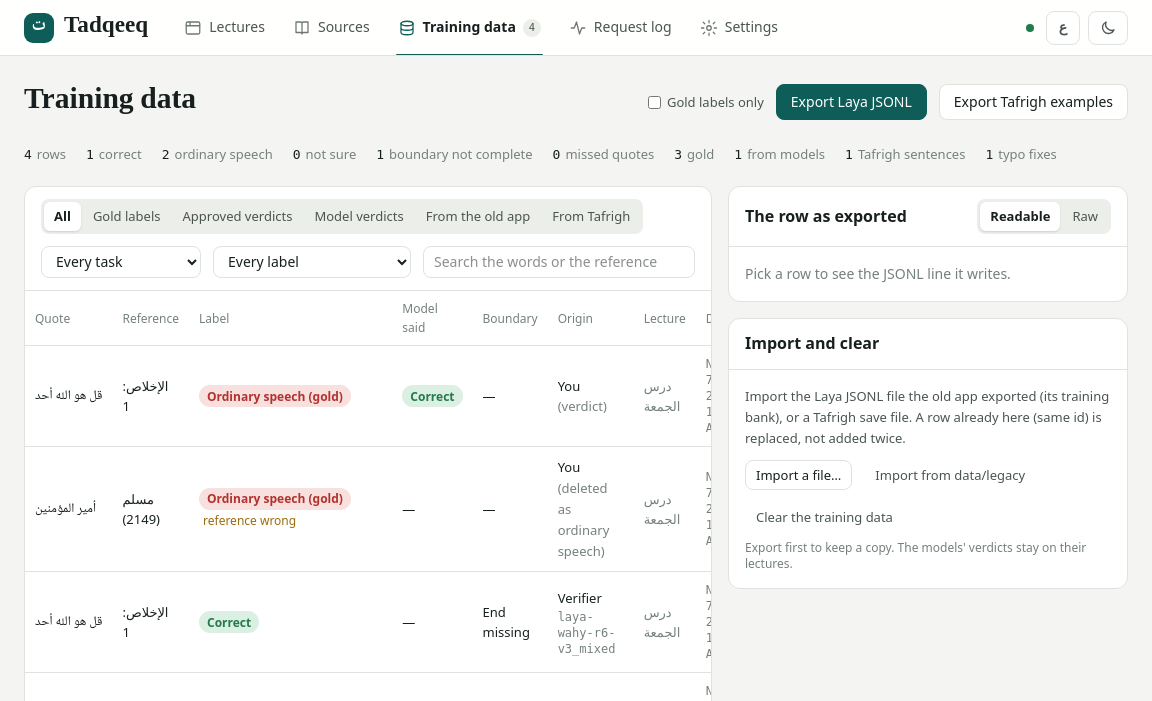
it: clearing asks a second click (F-103); the legacy folder imports
Click the button with test id "train-clear".
click(824, 517)  # box [745,502,904,532]
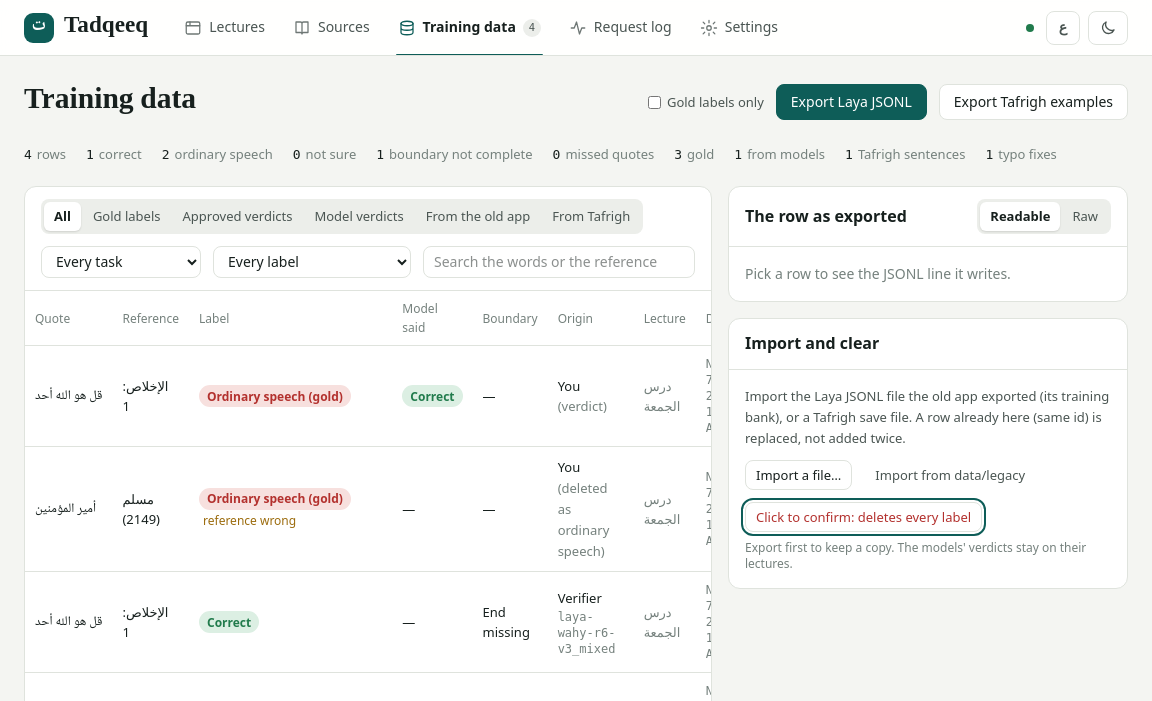
Click the button with test id "train-clear".
click(864, 517)  # box [745,502,982,532]
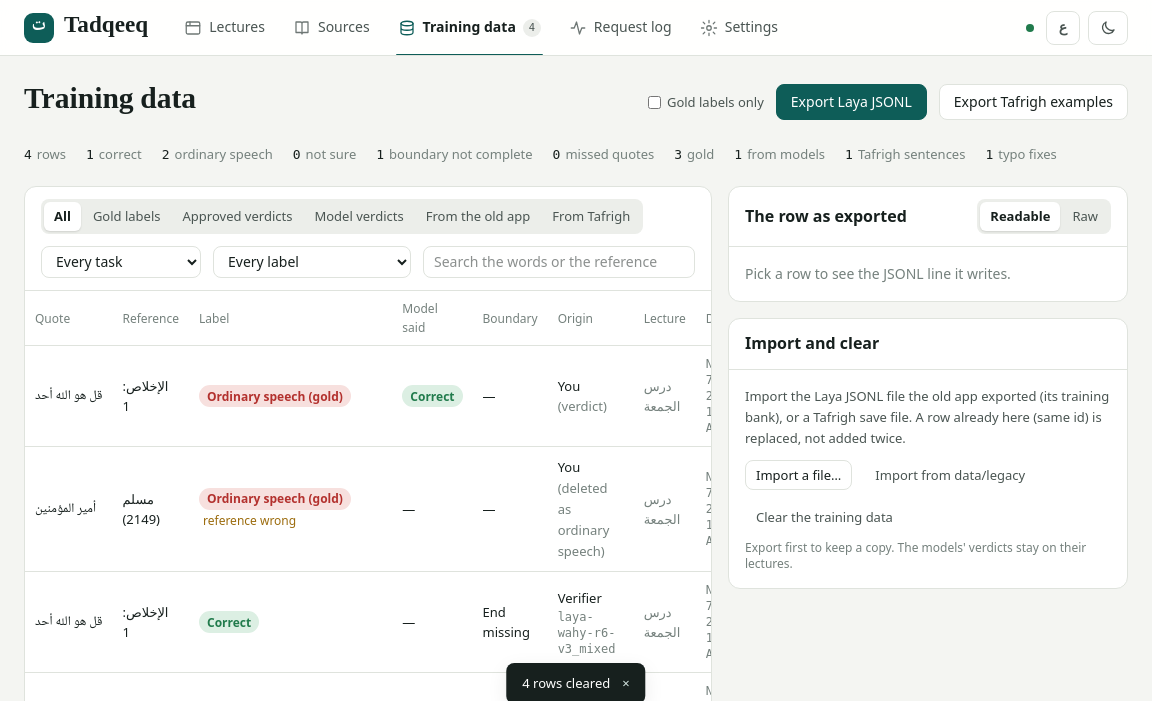
Expected: the text "4 rows cleared" is shown, [522,673,610,694]
Click the button with test id "train-import-legacy".
click(950, 475)  # box [864,460,1036,490]
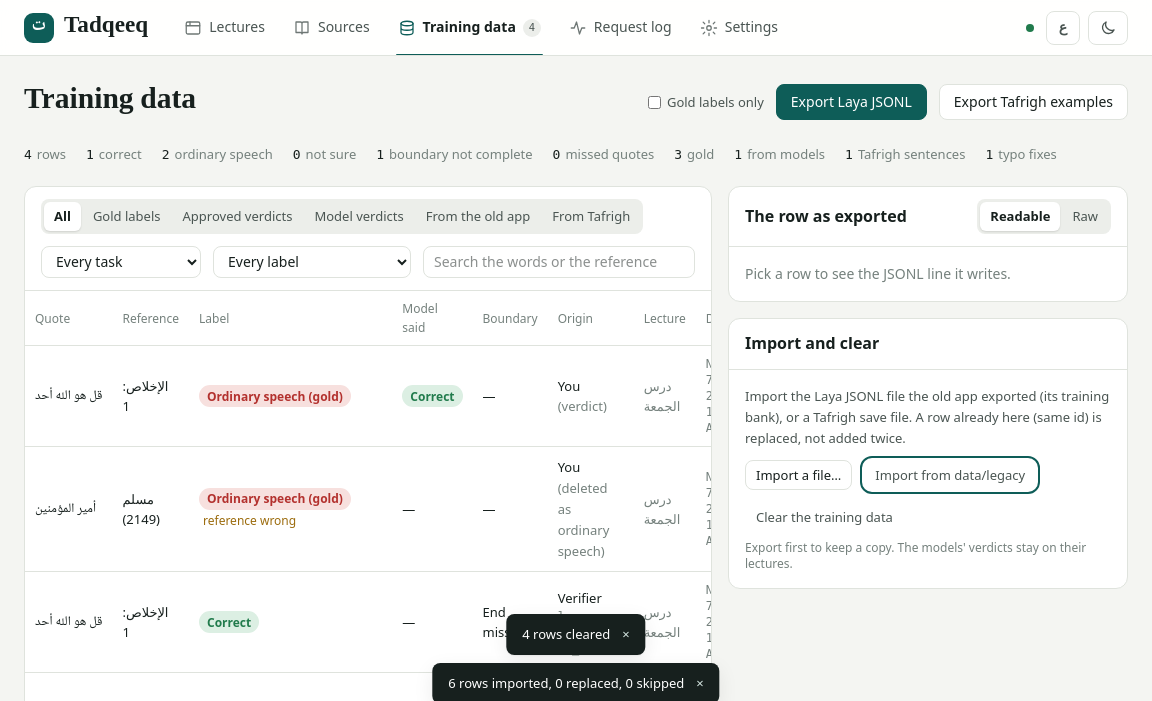
Expected: the text "6 rows imported, 0 replaced, 0 skipped" is shown, [448,673,684,694]
